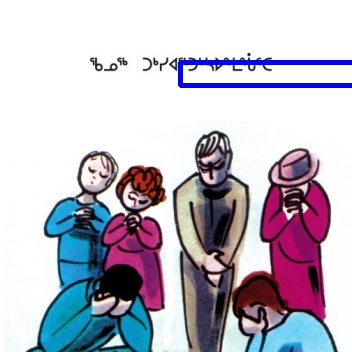inuktitut: (87, 51, 274, 74)
